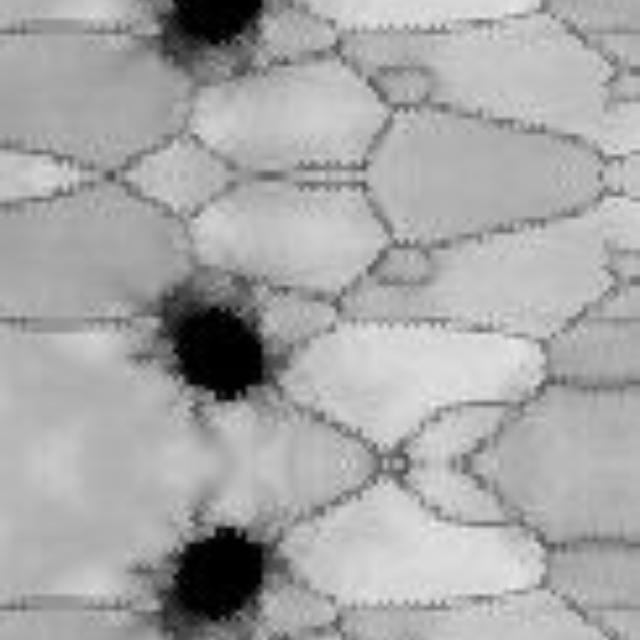good_void: (106, 252, 300, 440), (108, 487, 300, 640), (129, 0, 284, 82)
